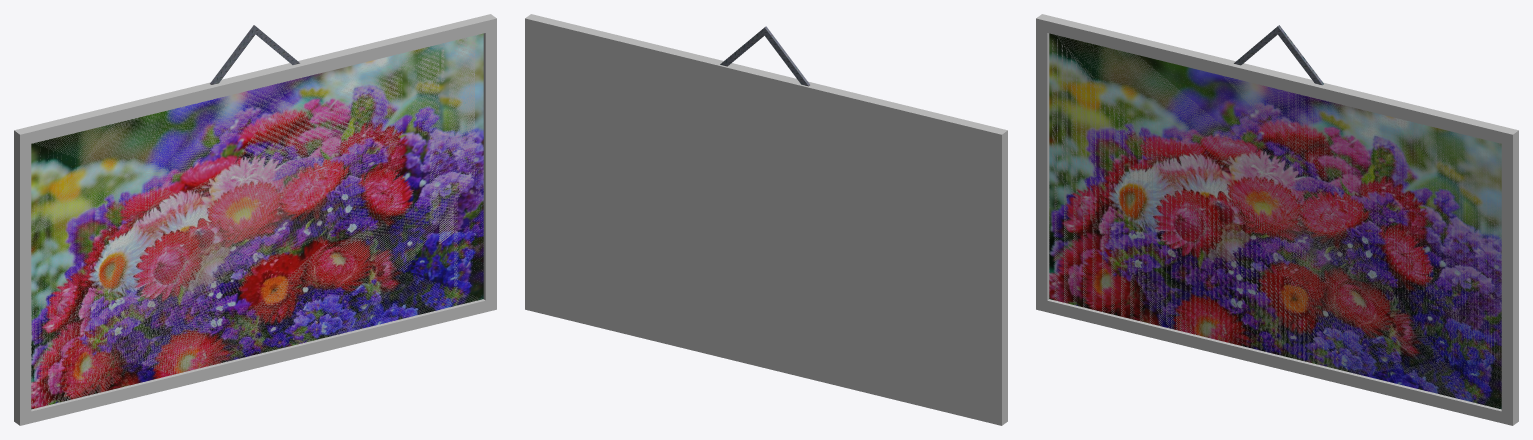
The model's file is picture_frame2.dae.
The picture shows the model from 3 angles, left to right: view 1: azimuth 30°, elevation 25°; view 2: azimuth 150°, elevation 25°; view 3: azimuth 330°, elevation 25°; orthographic projection.
Visible parts, largest first — view 1: group_2, group_1 (×2), group_0; view 2: group_1, group_0; view 3: group_2, group_1 (×2), group_0.
Part boxes in pixels (x1=…): group_2: x1=31, y1=33, x2=483, y2=409; group_1 (×2): x1=14, y1=14, x2=496, y2=425; group_0: x1=210, y1=25, x2=299, y2=84; group_1: x1=525, y1=14, x2=1007, y2=425; group_0: x1=720, y1=26, x2=809, y2=86; group_2: x1=1049, y1=33, x2=1501, y2=409; group_1 (×2): x1=1036, y1=14, x2=1518, y2=425; group_0: x1=1234, y1=25, x2=1323, y2=85.
Bounding box in the file's own units: 0.3141 × 0.00694 × 0.2136.
